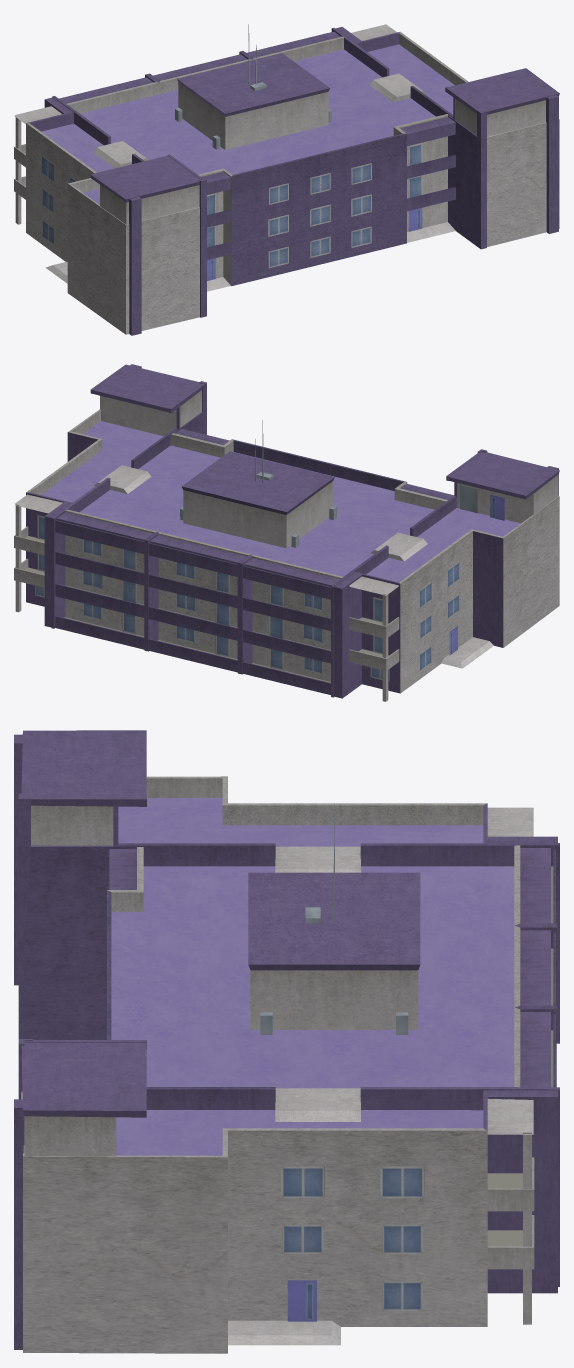
The model's file is ORB_6_Center_Detail_2.fbx.
3 renders of one model, top to bottom at view 1: azimuth 30°, elevation 25°; view 2: azimuth 150°, elevation 25°; view 3: azimuth 270°, elevation 25°, orthographic. The views are drawn at different scales.
Parts seen in each view (by area): view 1: ORB_6_Center_Detail_2; view 2: ORB_6_Center_Detail_2; view 3: ORB_6_Center_Detail_2.
Boxes of the visible parts, x1,y1,x2,y2 form: ORB_6_Center_Detail_2: [14, 24, 559, 335]; ORB_6_Center_Detail_2: [14, 364, 559, 701]; ORB_6_Center_Detail_2: [14, 730, 559, 1353].
Bounding box in the file's own units: 4197 × 1902 × 2543.
